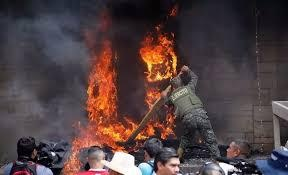fire: (69, 13, 182, 167)
